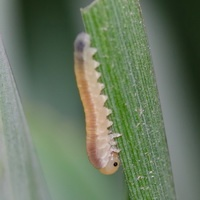insect: (74, 32, 120, 174)
